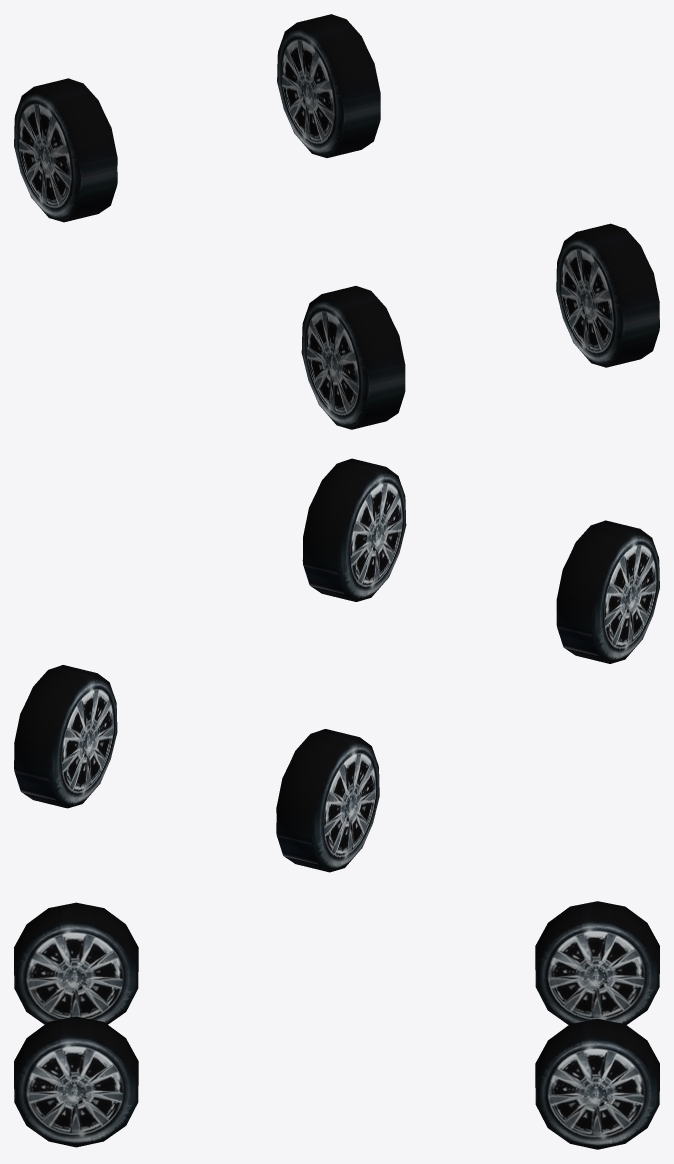
File: tires.obj
The picture shows the model from 3 angles, top to bottom: view 1: azimuth 30°, elevation 25°; view 2: azimuth 150°, elevation 25°; view 3: azimuth 270°, elevation 25°; orthographic projection. The views are drawn at different scales.
Visible parts, largest first — view 1: tires1; view 2: tires1; view 3: tires1.
Part boxes in pixels (x1,y1,x2,y2): tires1: (14, 14, 659, 429); tires1: (14, 458, 659, 872); tires1: (14, 901, 659, 1149).
Bounding box in the file's own units: 2.35 × 0.9202 × 4.66.
1 material, 1 textured.
